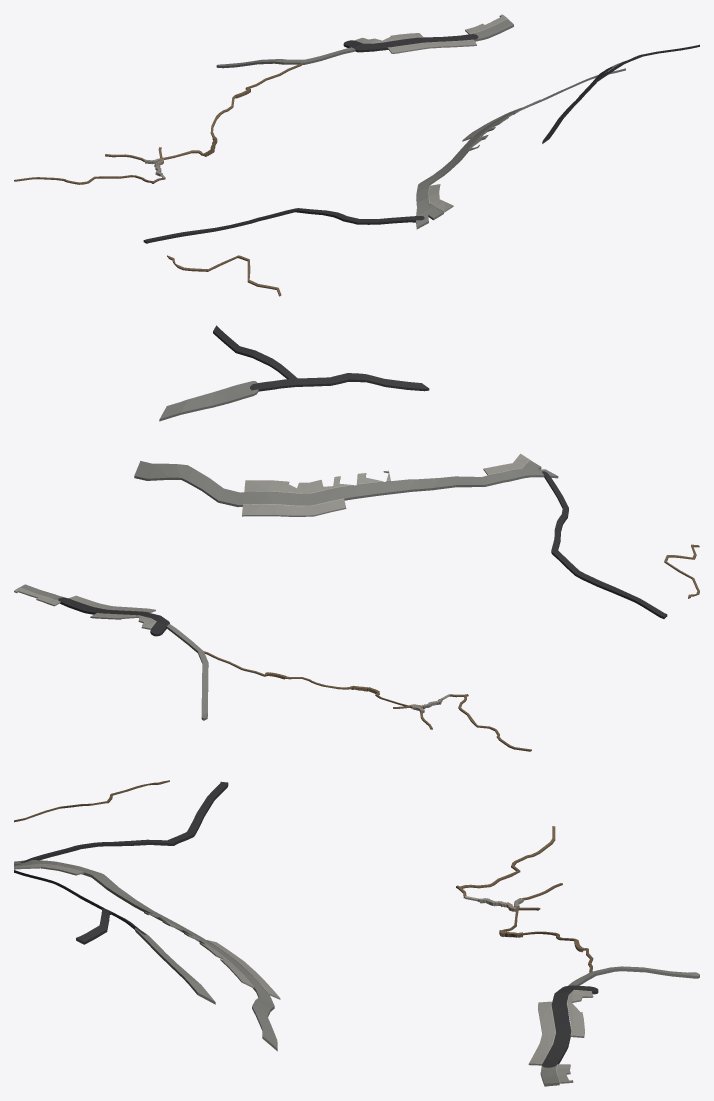
3 renders of one model, top to bottom at view 1: azimuth 30°, elevation 25°; view 2: azimuth 150°, elevation 25°; view 3: azimuth 270°, elevation 25°, orthographic. The views are drawn at different scales.
Bounding box in the file's own units: 293 × 89.58 × 279.
